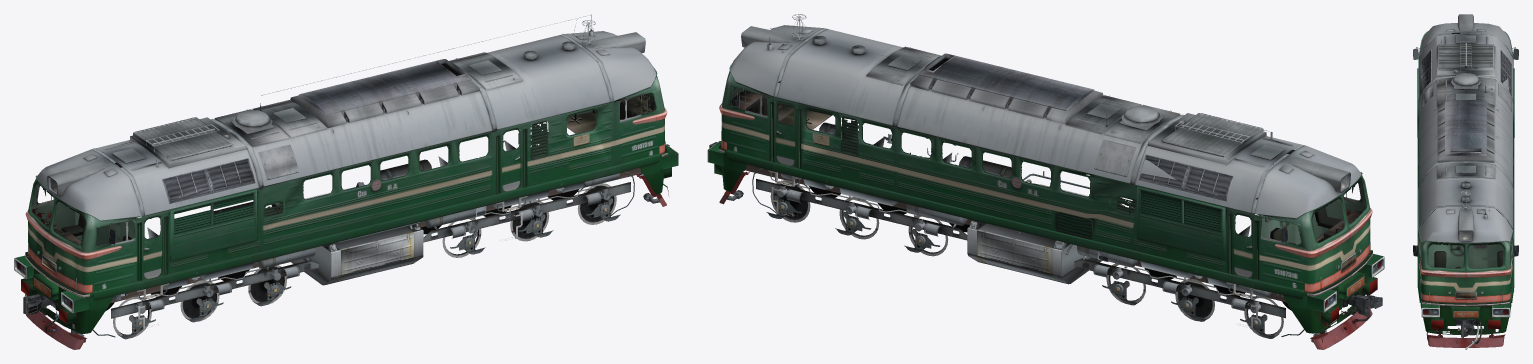
The model's file is sergej.glb.
3 renders of one model, left to right at view 1: azimuth 30°, elevation 25°; view 2: azimuth 150°, elevation 25°; view 3: azimuth 270°, elevation 25°, orthographic. The views are drawn at different scales.
Bounding box in the file's own units: 17.69 × 4.86 × 3.32.
1 material, 1 textured.
